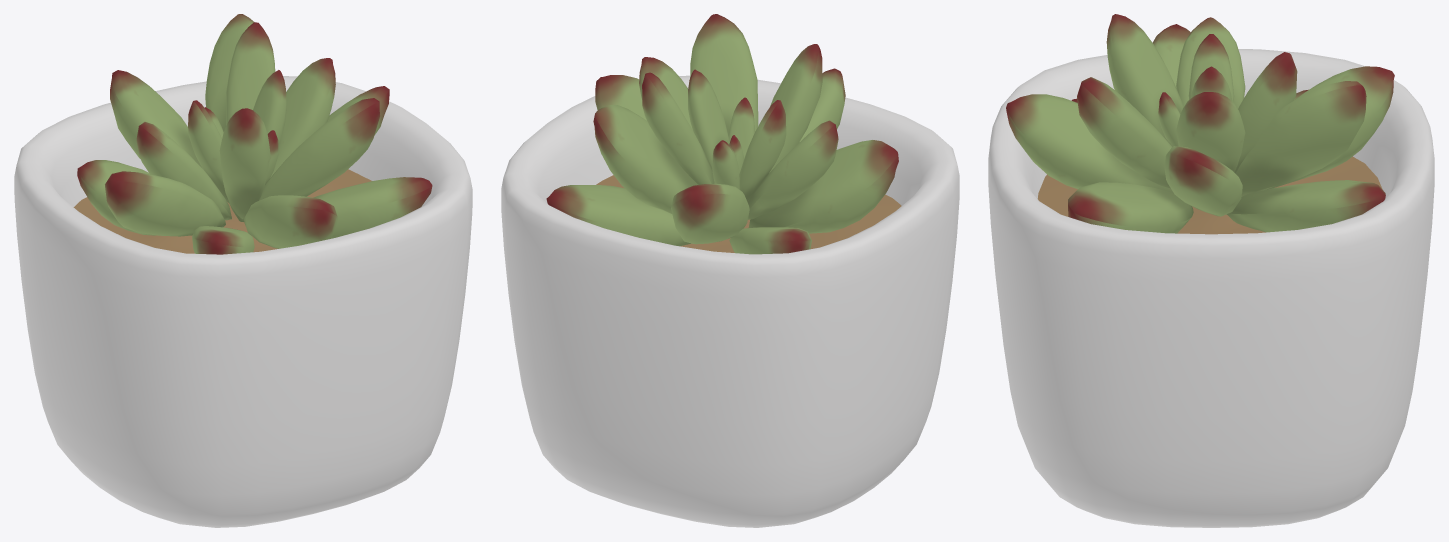
File: plant-6.glb
3 views of the same model, side by side, from view 1: azimuth 30°, elevation 25°; view 2: azimuth 150°, elevation 25°; view 3: azimuth 270°, elevation 25° (orthographic). The views are drawn at different scales.
Visible parts, largest first — view 1: Pot007, gurauka; view 2: Pot007, gurauka; view 3: Pot007, gurauka.
Boxes of the visible parts, x1=… form: Pot007: x1=14, y1=76, x2=472, y2=527; gurauka: x1=77, y1=14, x2=432, y2=254; Pot007: x1=501, y1=75, x2=959, y2=527; gurauka: x1=546, y1=14, x2=898, y2=254; Pot007: x1=988, y1=49, x2=1434, y2=527; gurauka: x1=1006, y1=14, x2=1394, y2=233.
Bounding box in the file's own units: 0.5765 × 0.6076 × 0.5514.
3 materials, 1 textured.
